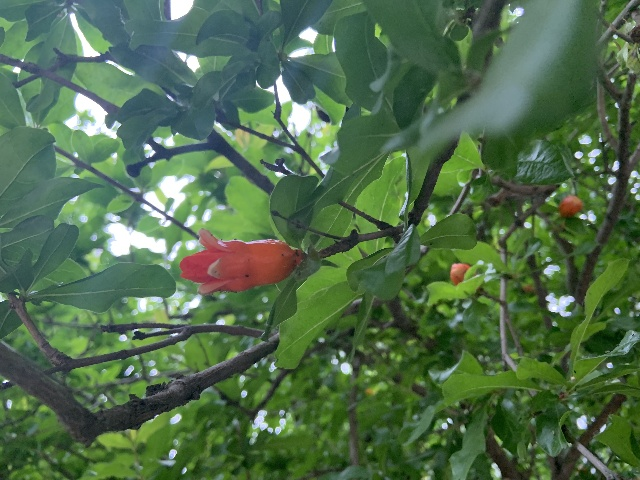bud: (450, 263, 476, 285), (558, 194, 582, 217)
flower: (178, 227, 302, 295)
